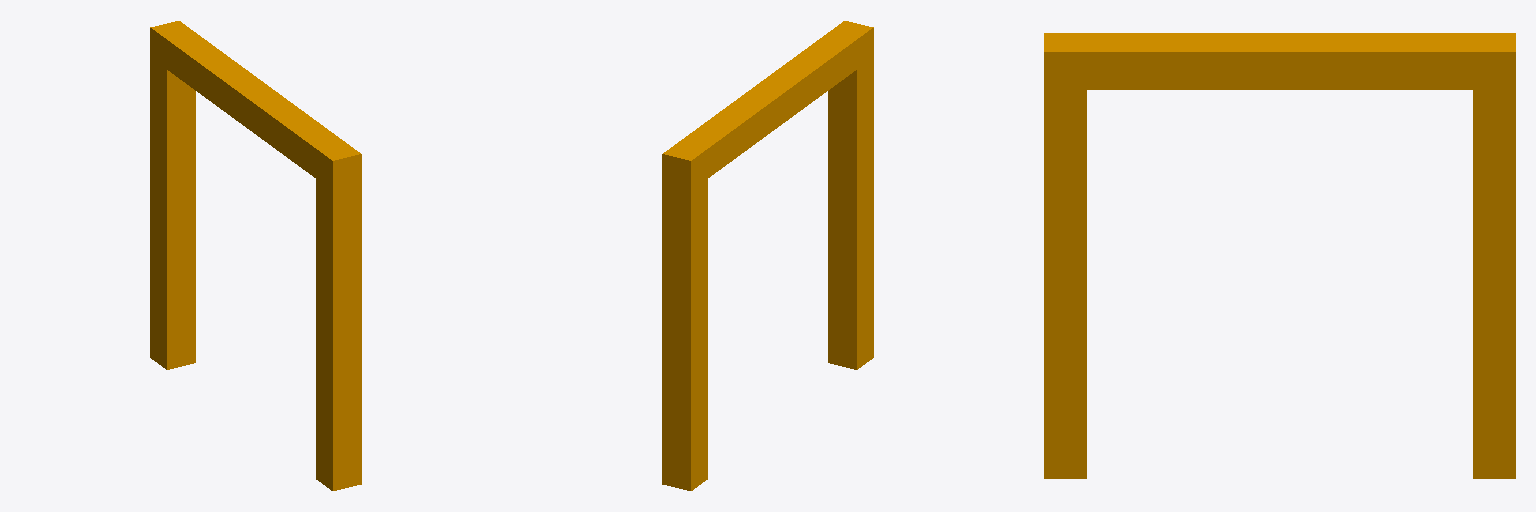
robot.urdf — red_gate:
<?xml version="1.0"?>
<robot name="red_gate">
  
  <gazebo>
    <static>true</static>
  </gazebo>

  <link name="base_link">
    <inertial>
      <mass value="10.0"/>
      <origin xyz="0 0 0.5" rpy="0 0 0"/>
      <inertia ixx="1.0" ixy="0.0" ixz="0.0" iyy="1.0" iyz="0.0" izz="1.0"/>
    </inertial>

    <visual>
      <origin xyz="0 0.5 0.5" rpy="0 0 0"/>
      <geometry><box size="0.1 0.1 1.0"/></geometry>
    </visual>
    <collision>
      <origin xyz="0 0.5 0.5" rpy="0 0 0"/>
      <geometry><box size="0.1 0.1 1.0"/></geometry>
    </collision>

    <visual>
      <origin xyz="0 -0.5 0.5" rpy="0 0 0"/>
      <geometry><box size="0.1 0.1 1.0"/></geometry>
    </visual>
    <collision>
      <origin xyz="0 -0.5 0.5" rpy="0 0 0"/>
      <geometry><box size="0.1 0.1 1.0"/></geometry>
    </collision>

    <visual>
      <origin xyz="0 0 1.05" rpy="0 0 0"/>
      <geometry><box size="0.1 1.1 0.1"/></geometry>
    </visual>
    <collision>
      <origin xyz="0 0 1.05" rpy="0 0 0"/>
      <geometry><box size="0.1 1.1 0.1"/></geometry>
    </collision>
  </link>

  <gazebo reference="base_link">
    <material>Gazebo/Red</material>
  </gazebo>
</robot>

--- Render facts (derived) ---
The picture shows the robot from 3 angles, left to right: view 1: azimuth 30°, elevation 25°; view 2: azimuth 150°, elevation 25°; view 3: azimuth 270°, elevation 25°; orthographic projection.
Robot: red_gate — 1 links, 0 joints (none); root link base_link; default pose: every joint at zero.
Visible links, largest first — view 1: base_link; view 2: base_link; view 3: base_link.
Boxes of the visible links, <box> form: base_link: <box>150,21,361,490</box>; base_link: <box>662,21,873,490</box>; base_link: <box>1044,33,1515,478</box>.
Size in the robot's own frame: 0.1 by 1.1 by 1.1 metres.
Geometry: primitives only (box / cylinder / sphere), no mesh files.
